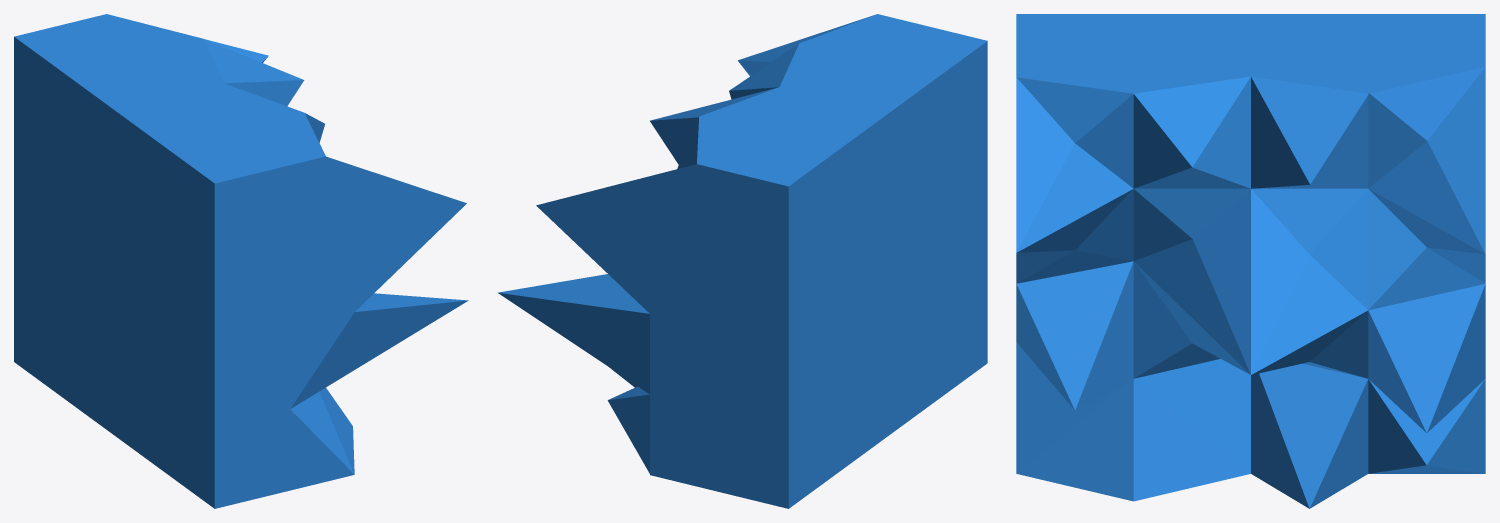
The model's file is Spikes.fbx.
The picture shows the model from 3 angles, left to right: view 1: azimuth 30°, elevation 25°; view 2: azimuth 150°, elevation 25°; view 3: azimuth 270°, elevation 25°; orthographic projection. The views are drawn at different scales.
Parts seen in each view (by area): view 1: Cube.003; view 2: Cube.003; view 3: Cube.003.
Boxes of the visible parts, x1,y1,x2,y2 form: Cube.003: (14,14,468,508); Cube.003: (498,14,987,508); Cube.003: (1016,14,1485,508).
Bounding box in the file's own units: 91.76 × 89.41 × 100.
